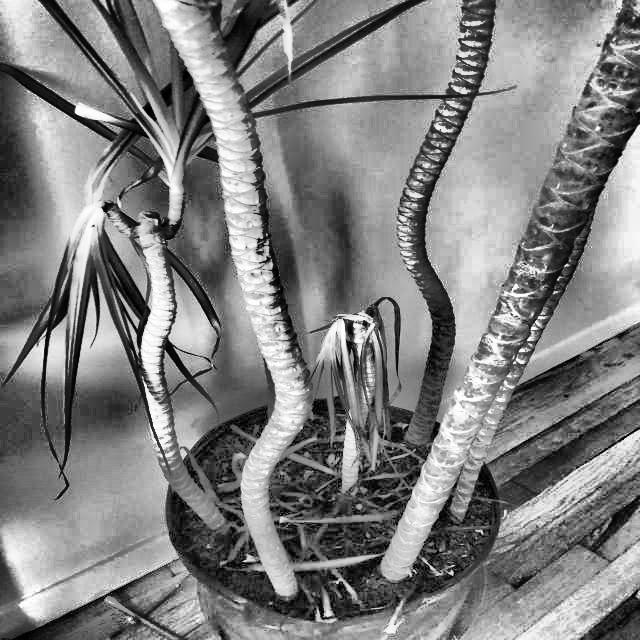plants: (18, 0, 515, 639), (10, 190, 214, 500), (300, 295, 406, 500)
